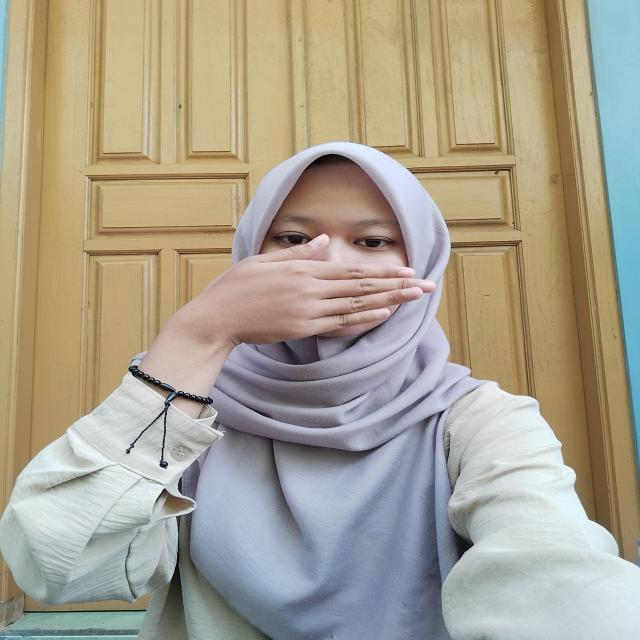buruk: (144, 238, 443, 363)
